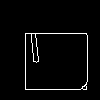I: (25, 25, 44, 73)
